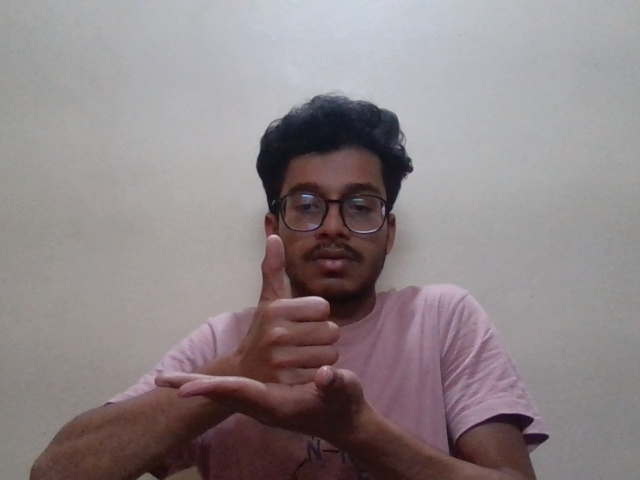help: (147, 228, 371, 437)
